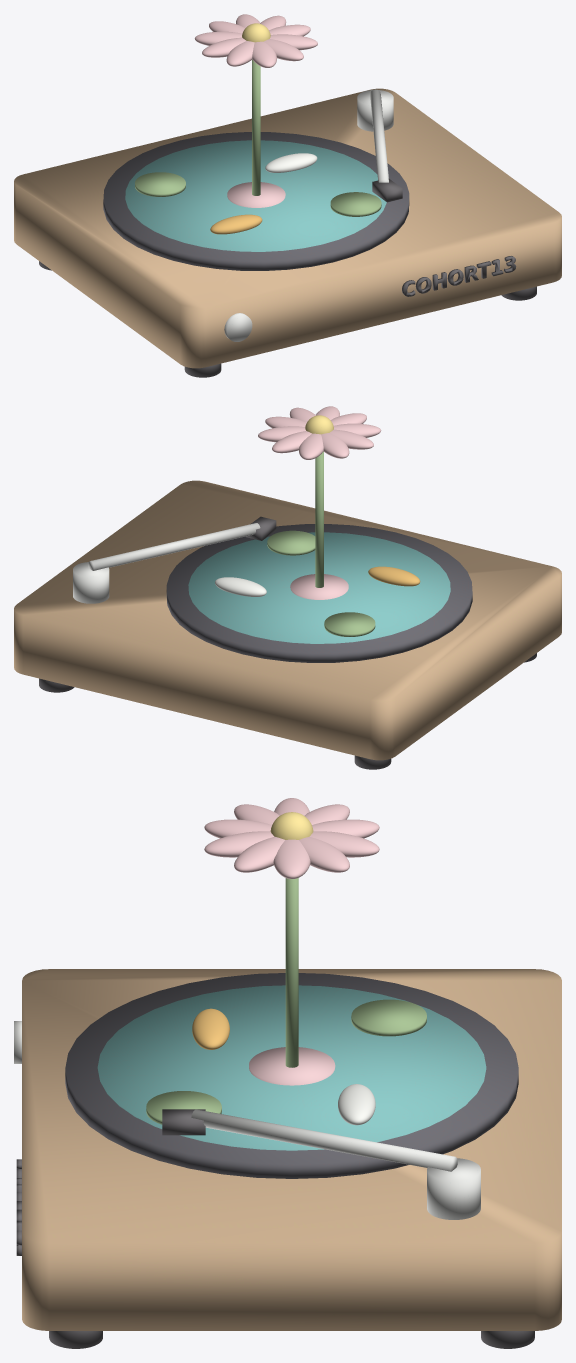
Rendered from vinyl-record-player.glb.
3 views of the same model, one above another, from view 1: azimuth 30°, elevation 25°; view 2: azimuth 150°, elevation 25°; view 3: azimuth 270°, elevation 25° (orthographic). The views are drawn at different scales.
Parts seen in each view (by area): view 1: part0, part6, part5, part24; view 2: part0, part6, part5, part24; view 3: part0, part6, part5, part24.
Boxes of the visible parts, x1,y1,x2,y2 form: part0: (14, 14, 561, 377); part6: (125, 140, 386, 251); part5: (103, 132, 409, 270); part24: (224, 89, 393, 341); part0: (14, 406, 561, 769); part6: (188, 532, 450, 643); part5: (166, 524, 472, 662); part24: (73, 523, 260, 603); part0: (16, 798, 561, 1348); part6: (97, 985, 486, 1150); part5: (65, 973, 518, 1178); part24: (14, 1021, 480, 1219).
Size of the model in its own units: 1 by 0.6583 by 0.8458.
Materials: 4 (4 with a texture image).
